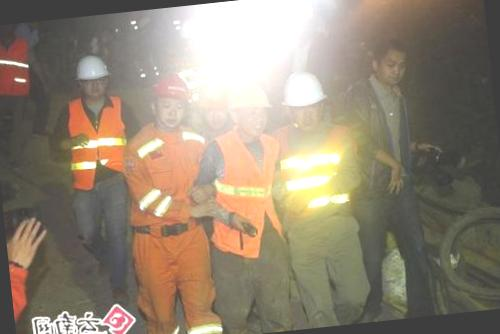no_helmet: (364, 36, 417, 90)
